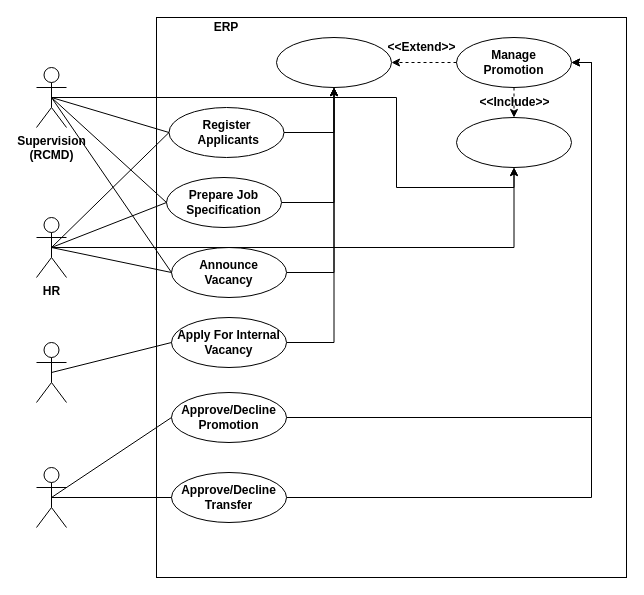
Image size: 644x595. Some labels were removed from this diagram. Here are the shapes that lost their labels. From the top down, the centre of each, then its label:
At (x=334, y=62): "Recruitment {abstract}".
At (x=514, y=142): "Prepare Recommendations".
At (x=51, y=372): "Employee".
At (x=51, y=497): "General Manager".
